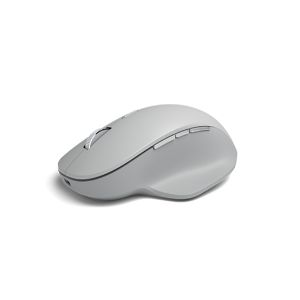mouse: (51, 101, 243, 204)
